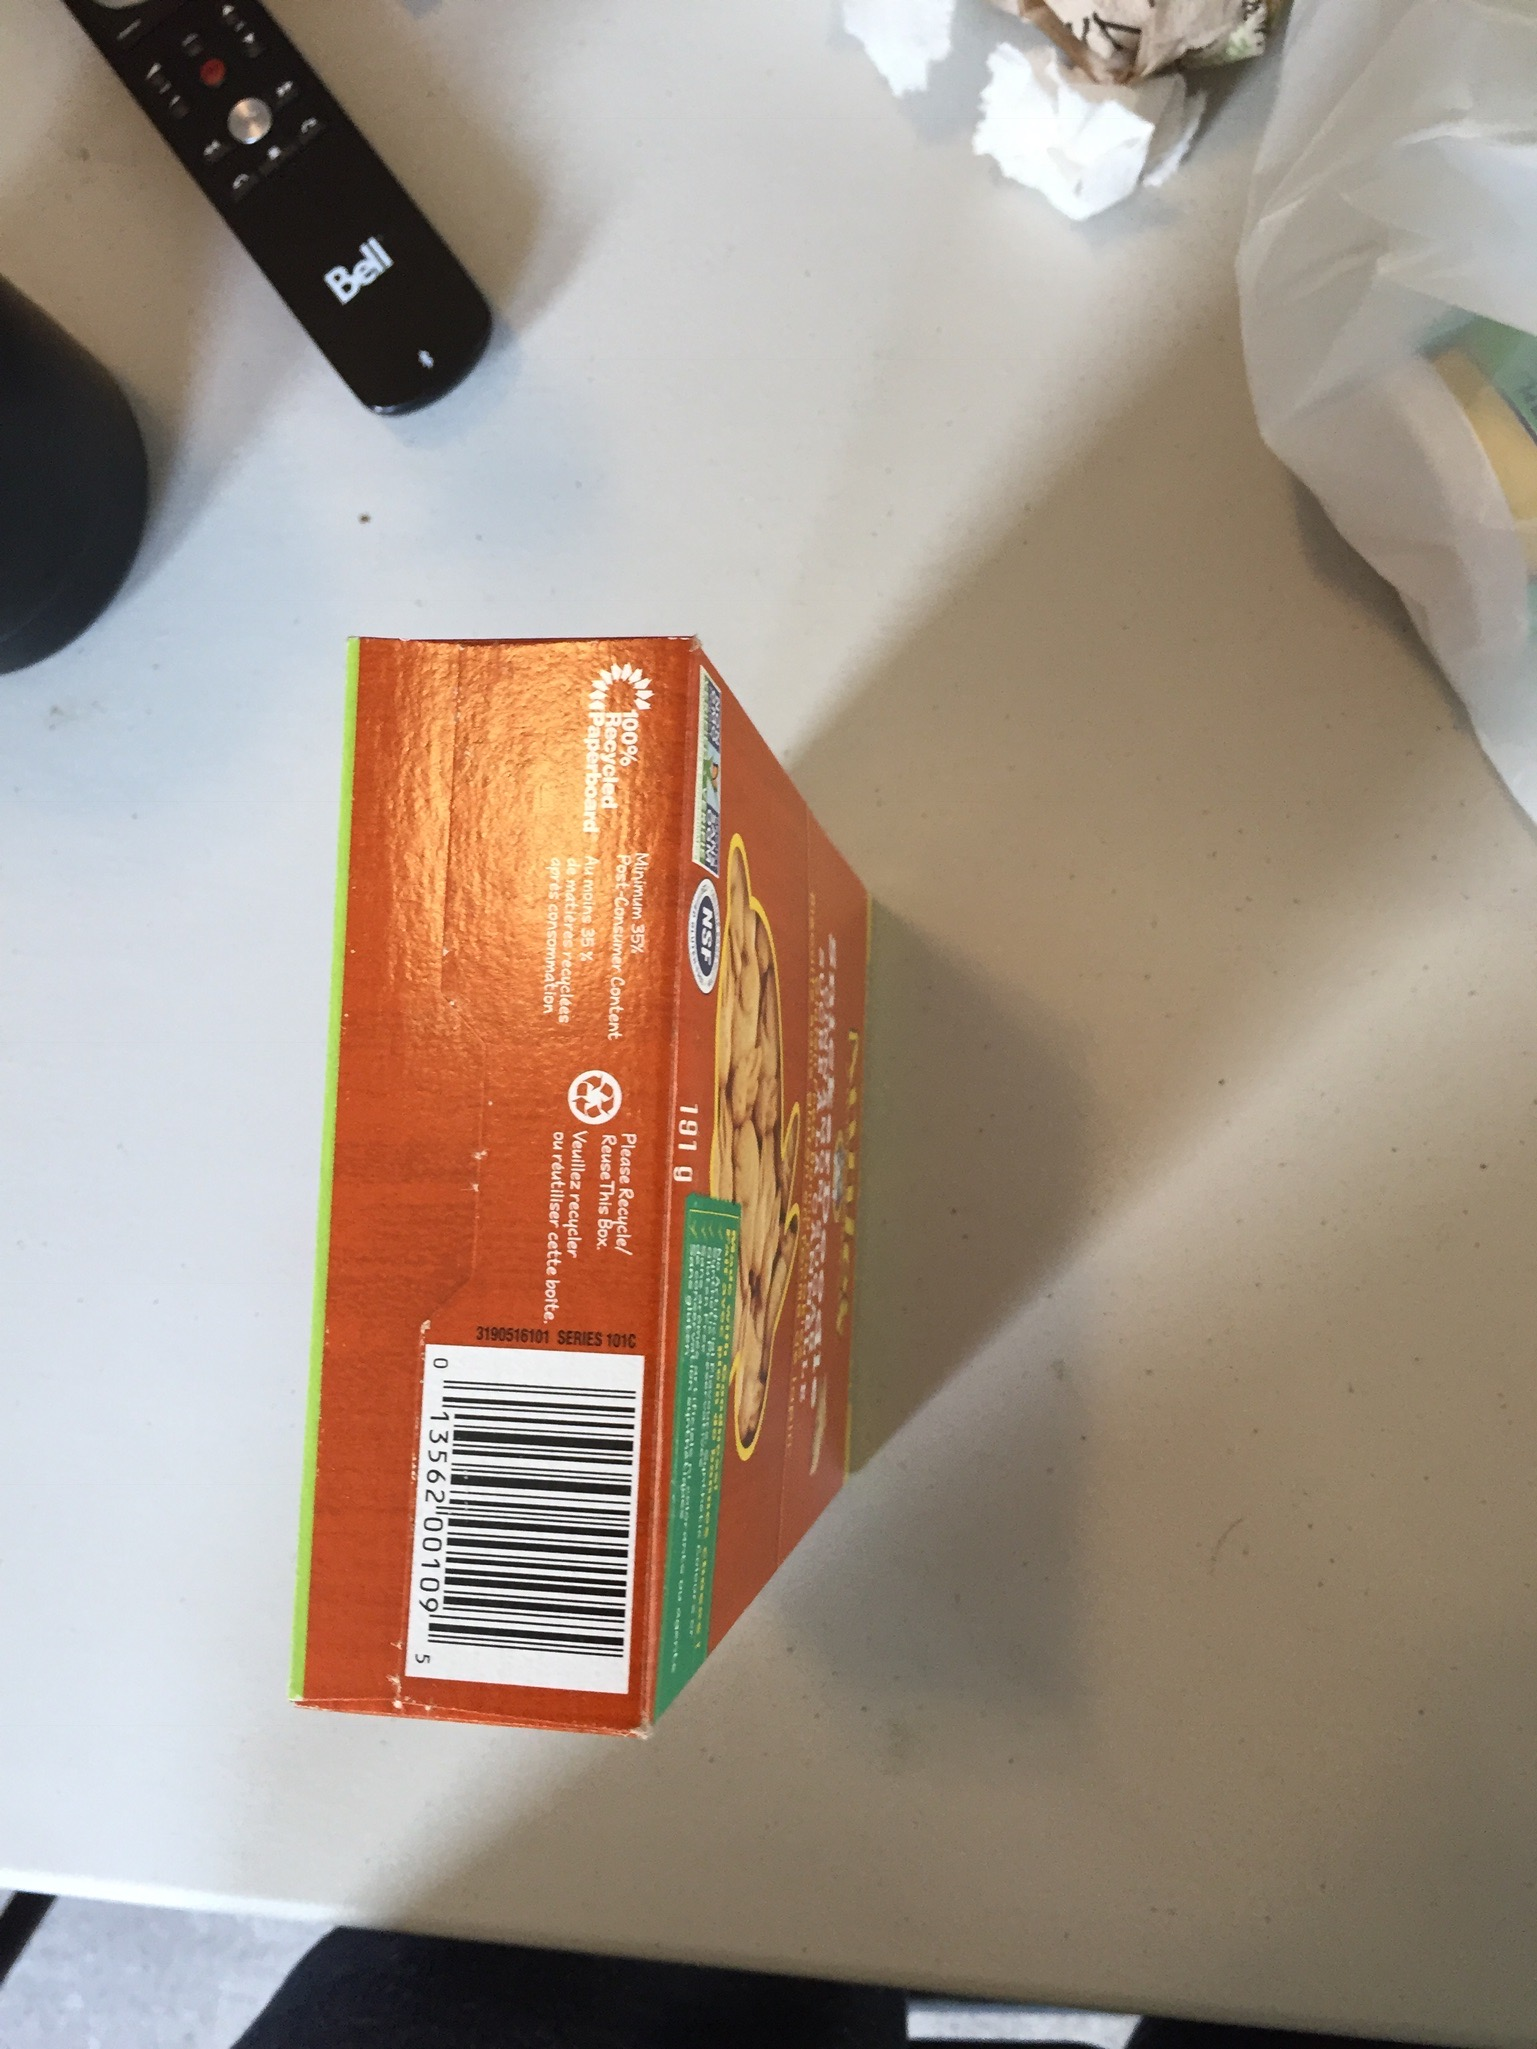annies_snickerdoodle_cinnamon_sugar: (357, 644, 639, 1713)
